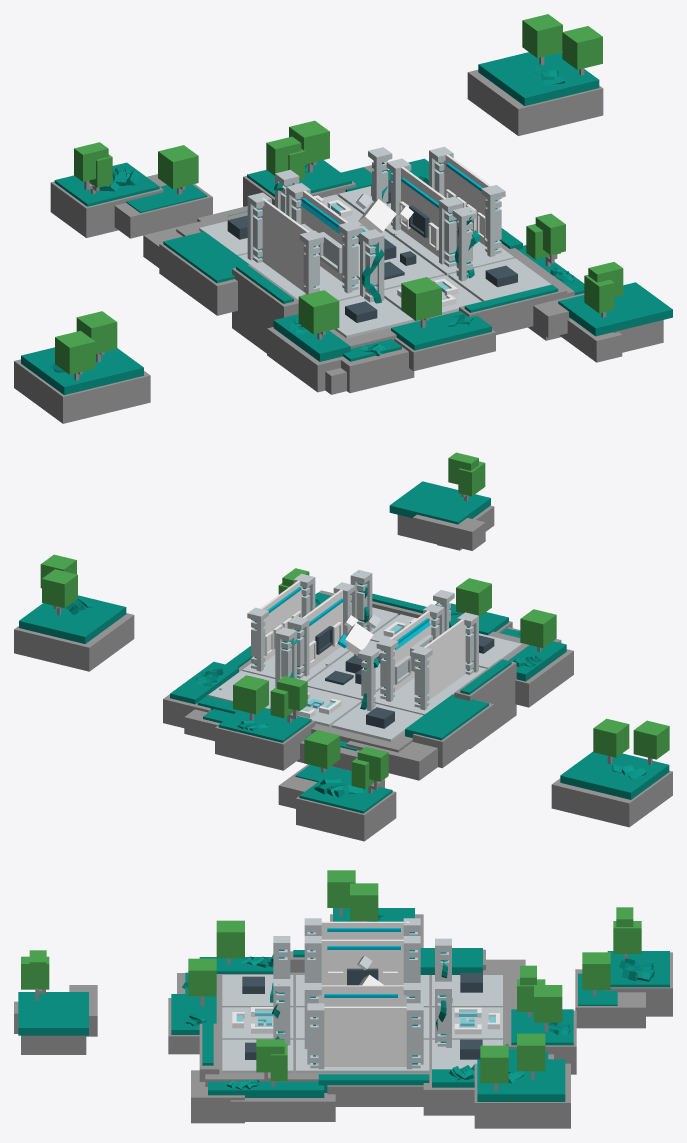
File: map.glb
3 views of the same model, one above another, from view 1: azimuth 30°, elevation 25°; view 2: azimuth 150°, elevation 25°; view 3: azimuth 270°, elevation 25° (orthographic). The views are drawn at different scales.
Parts seen in each view (by area): view 1: group1306484637, group486283697, group656191759, group602155895, group445860012, group985830789, group90543103, group1675820717, group1130891968, group1281993969, group873421627, group1637909053 (+22 smaller); view 2: group602155895, group486283697, group1306484637, group656191759, group445860012, group985830789, group1675820717, group279731706, group90543103, group1130891968, group542566685, group1563131716 (+18 smaller); view 3: group656191759, group486283697, group1306484637, group1675820717, group445860012, group1130891968, group1942364772, group602155895, group46130247, group90543103, group1380893060, group985830789 (+27 smaller).
Part boxes in pixels (box(x1,y1,x2,y2)): group1306484637: box(467, 14, 603, 135); group486283697: box(50, 142, 212, 238); group656191759: box(199, 186, 551, 338); group602155895: box(14, 311, 150, 423); group445860012: box(533, 262, 672, 362); group985830789: box(247, 192, 323, 294); group90543103: box(386, 158, 463, 266); group1675820717: box(429, 146, 505, 256); group1130891968: box(286, 183, 362, 293); group1281993969: box(232, 264, 298, 353); group873421627: box(159, 243, 237, 315); group1637909053: box(360, 206, 476, 302); group602155895: box(551, 718, 672, 827); group486283697: box(278, 730, 396, 841); group1306484637: box(14, 554, 134, 671); group656191759: box(208, 607, 521, 741); group445860012: box(389, 452, 494, 550); group985830789: box(411, 612, 478, 710); group1675820717: box(247, 573, 315, 671); group279731706: box(215, 720, 315, 770); group90543103: box(287, 582, 355, 678); group1130891968: box(376, 604, 444, 701); group542566685: box(405, 694, 488, 740); group1563131716: box(275, 627, 379, 711); group656191759: box(222, 975, 502, 1073); group486283697: box(575, 907, 672, 1028); group1306484637: box(474, 1033, 570, 1128); group1675820717: box(307, 1003, 423, 1069); group445860012: box(14, 950, 97, 1054); group1130891968: box(304, 936, 420, 985); group1942364772: box(205, 970, 516, 1086); group602155895: box(327, 870, 423, 947); group46130247: box(230, 1093, 335, 1121); group90543103: box(304, 983, 420, 1048); group1380893060: box(327, 1085, 423, 1106); group985830789: box(304, 918, 420, 939).
Size of the model in its own units: 54.21 by 15.16 by 52.51.
